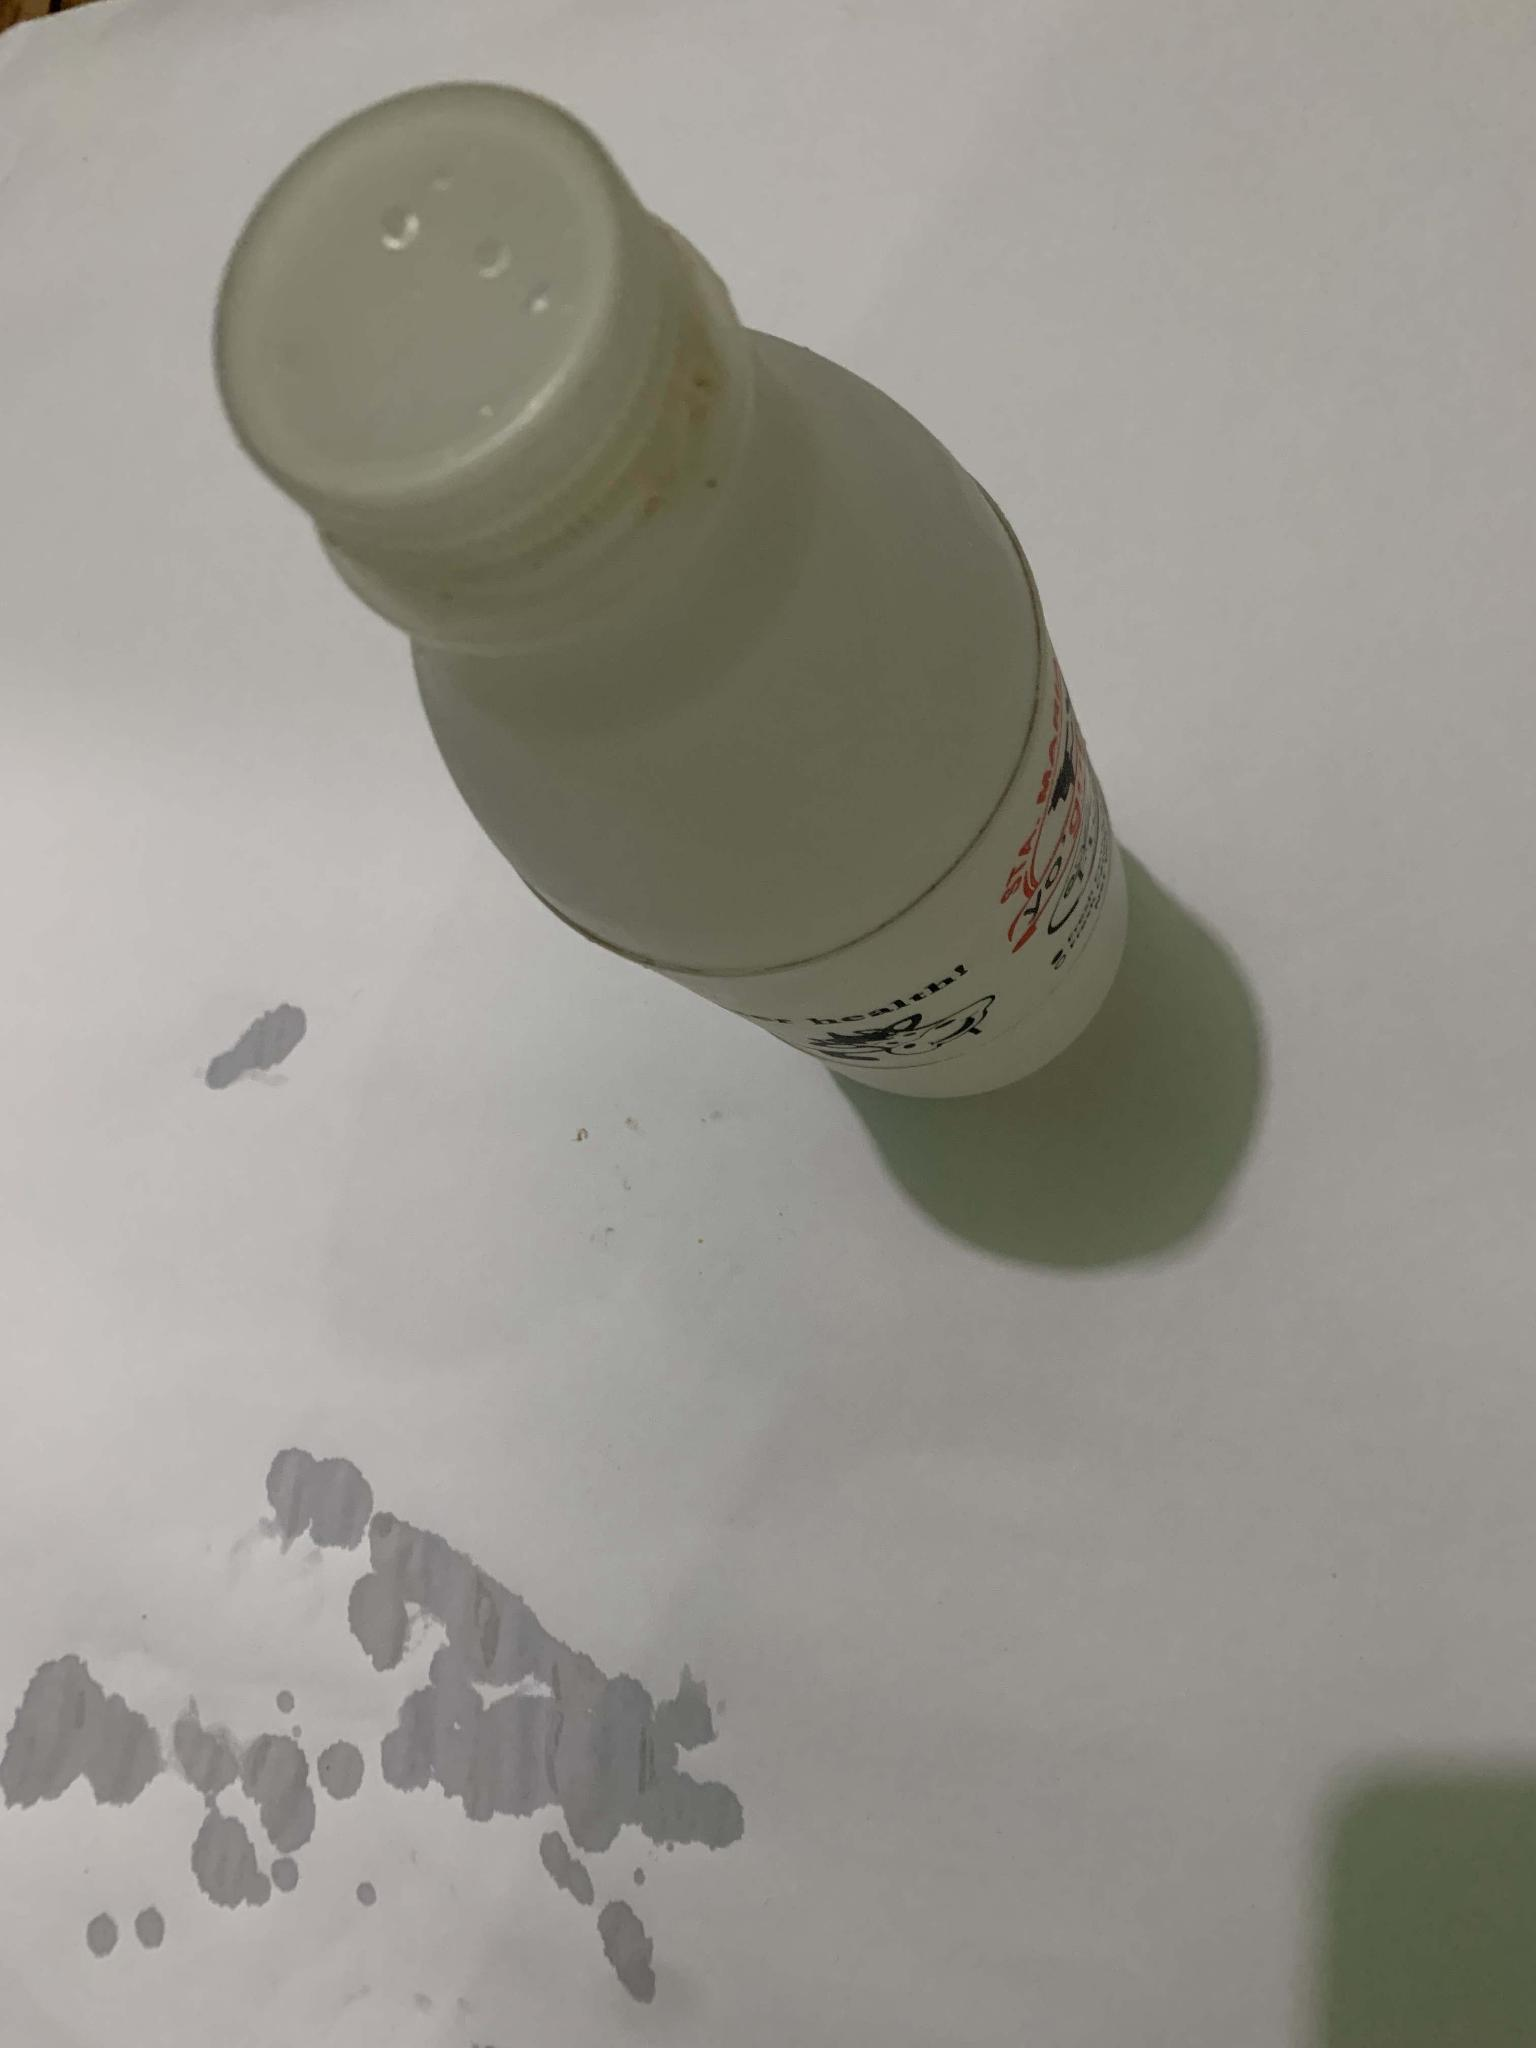bottle: (213, 62, 1134, 1120)
